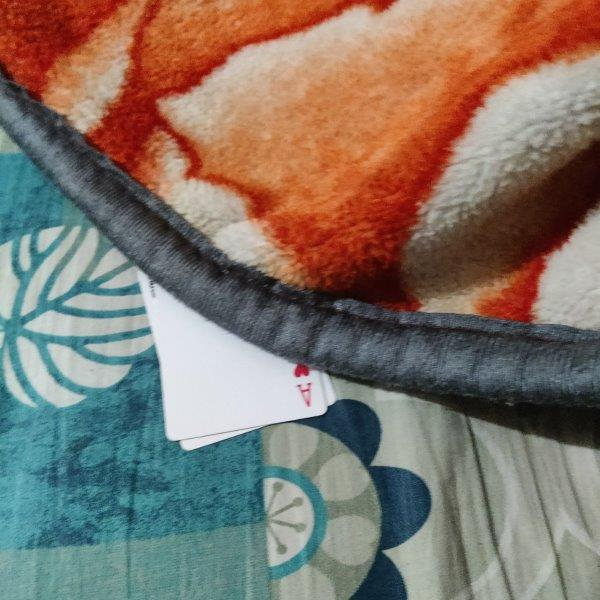Ace of Hearts: (138, 268, 330, 440)
